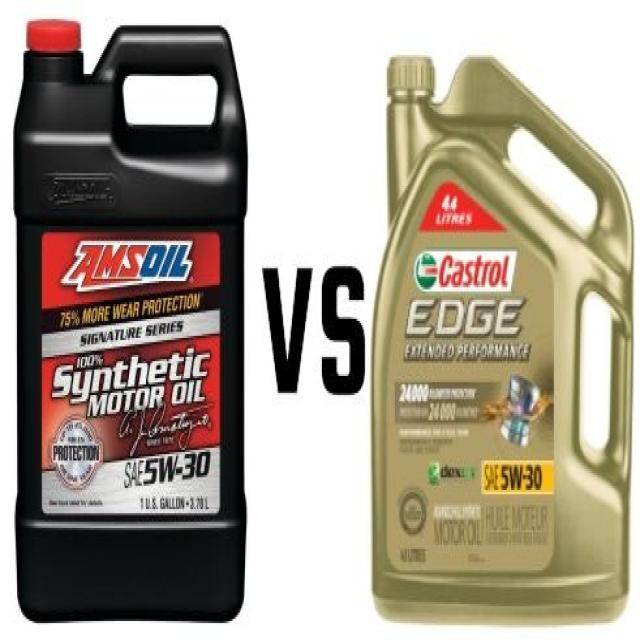motor_oil: (377, 42, 631, 630), (14, 18, 253, 623)
